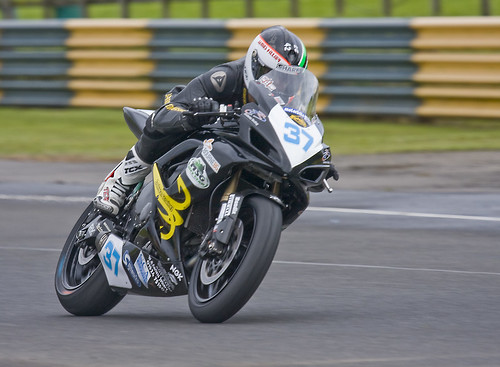helmet: (241, 26, 311, 66)
